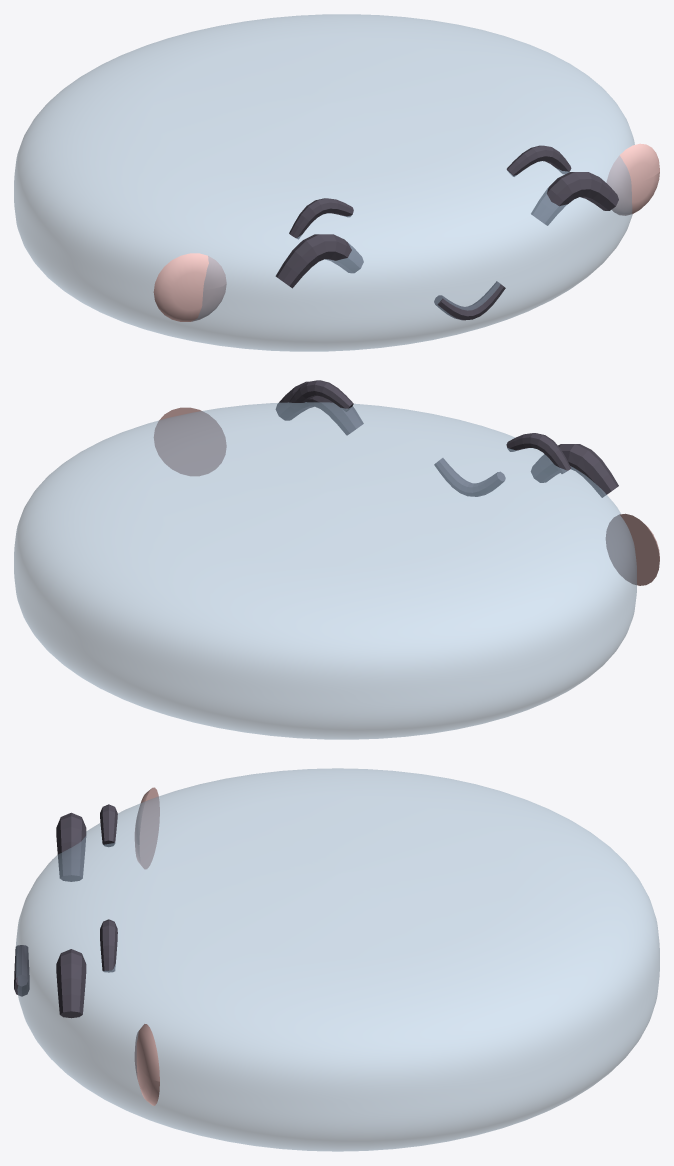
Rendered from jelly-friends-playroom-jelly-pebble-squashed-9552fbce__27602.glb.
3 renders of one model, top to bottom at view 1: azimuth 30°, elevation 25°; view 2: azimuth 150°, elevation 25°; view 3: azimuth 270°, elevation 25°, orthographic. The views are drawn at different scales.
Parts seen in each view (by area): view 1: body, blush-left, blush-right, eye-left, eye-right, mouth, brow-left, brow-right; view 2: body, blush-right, blush-left, eye-left, eye-right, mouth, brow-left, brow-right; view 3: body, eye-right, eye-left, blush-right, blush-left, brow-right, mouth, brow-left.
Boxes of the visible parts, x1=… form: body: x1=14, y1=14, x2=634, y2=351; blush-left: x1=153, y1=253, x2=226, y2=321; blush-right: x1=606, y1=143, x2=659, y2=215; eye-left: x1=275, y1=234, x2=363, y2=288; eye-right: x1=531, y1=172, x2=618, y2=225; mouth: x1=434, y1=281, x2=505, y2=320; brow-left: x1=289, y1=198, x2=353, y2=239; brow-right: x1=506, y1=145, x2=571, y2=176; body: x1=14, y1=402, x2=636, y2=739; blush-right: x1=153, y1=407, x2=226, y2=476; blush-left: x1=605, y1=513, x2=659, y2=585; eye-left: x1=531, y1=444, x2=618, y2=497; eye-right: x1=275, y1=381, x2=363, y2=435; mouth: x1=434, y1=458, x2=505, y2=496; brow-left: x1=506, y1=433, x2=571, y2=473; brow-right: x1=289, y1=380, x2=353, y2=411; body: x1=15, y1=768, x2=659, y2=1151; eye-right: x1=56, y1=949, x2=86, y2=1018; eye-left: x1=56, y1=812, x2=86, y2=881; blush-right: x1=134, y1=1024, x2=159, y2=1105; blush-left: x1=134, y1=787, x2=159, y2=869; brow-right: x1=100, y1=919, x2=117, y2=972; mouth: x1=14, y1=945, x2=29, y2=996; brow-left: x1=100, y1=804, x2=117, y2=846.
Bounding box in the file's own units: 0.4385 × 0.1168 × 0.4083.
